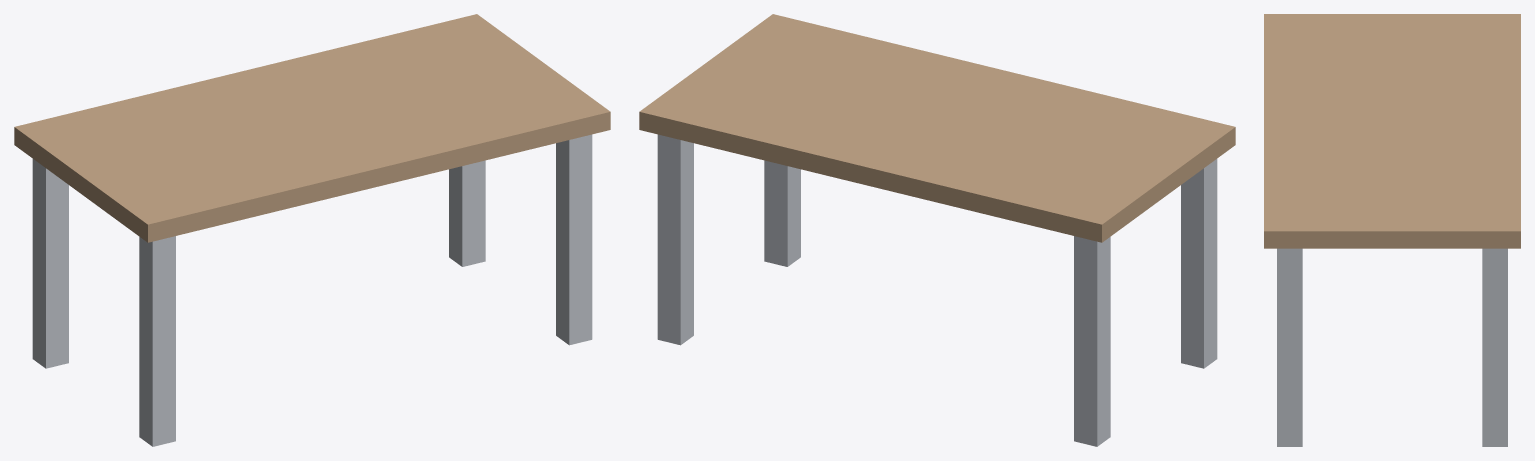
File: desk.glb
3 views of the same model, side by side, from view 1: azimuth 30°, elevation 25°; view 2: azimuth 150°, elevation 25°; view 3: azimuth 270°, elevation 25° (orthographic). The views are drawn at different scales.
Visible parts, largest first — view 1: desk_Top, desk_Leg_C, desk_Leg_D, desk_Leg_A, desk_Leg_B; view 2: desk_Top, desk_Leg_A, desk_Leg_B, desk_Leg_C, desk_Leg_D; view 3: desk_Top, desk_Leg_B, desk_Leg_D.
Part boxes in pixels (left/top/right/bottom): desk_Top: left=14, top=14, right=610, bottom=242; desk_Leg_C: left=139, top=236, right=175, bottom=446; desk_Leg_D: left=556, top=134, right=592, bottom=345; desk_Leg_A: left=32, top=159, right=68, bottom=368; desk_Leg_B: left=449, top=160, right=485, bottom=266; desk_Top: left=639, top=14, right=1235, bottom=242; desk_Leg_A: left=1074, top=236, right=1110, bottom=446; desk_Leg_B: left=657, top=134, right=693, bottom=345; desk_Leg_C: left=1181, top=159, right=1217, bottom=368; desk_Leg_D: left=764, top=160, right=800, bottom=266; desk_Top: left=1264, top=14, right=1520, bottom=248; desk_Leg_B: left=1482, top=248, right=1507, bottom=446; desk_Leg_D: left=1277, top=248, right=1302, bottom=446.
Size of the model in its own units: 1.6 by 0.76 by 0.8.
